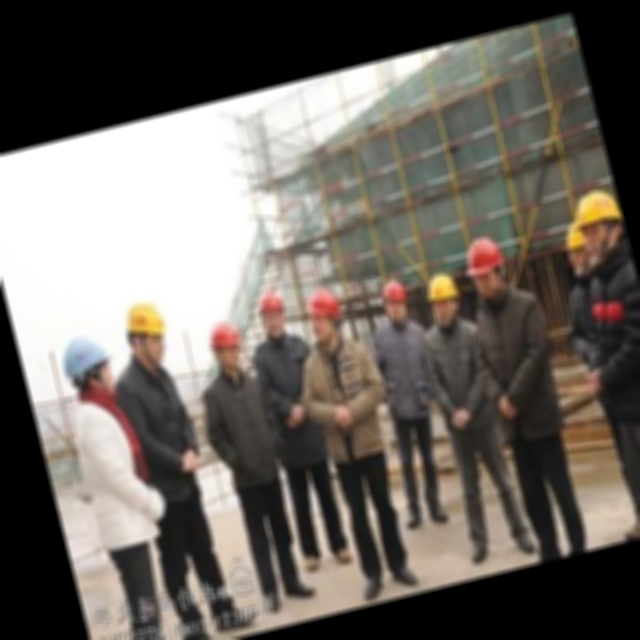Con_Casco: (459, 234, 512, 301), (203, 317, 249, 376)
